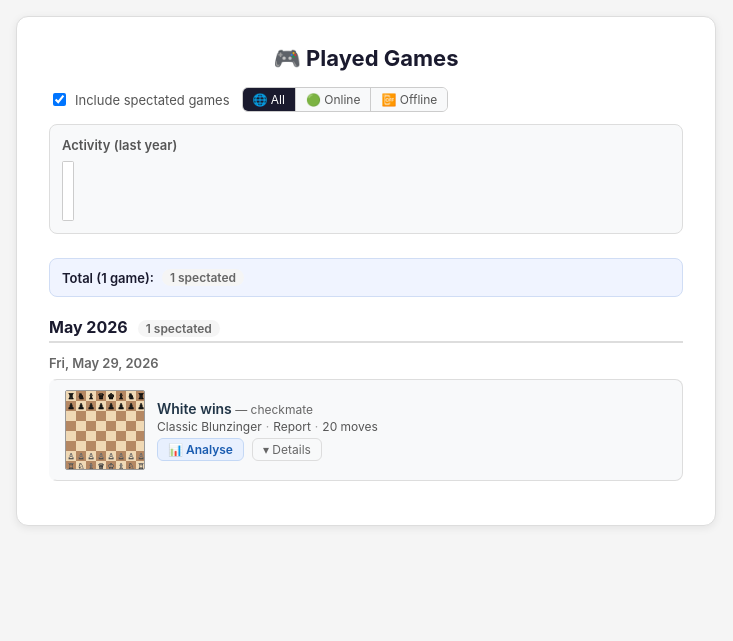
PlayedGamesSection › expandable details › collapses when Less is clicked
This screenshot has width=733, height=641.
Click the button "▾ Details": (287,449) [252,438,322,460]
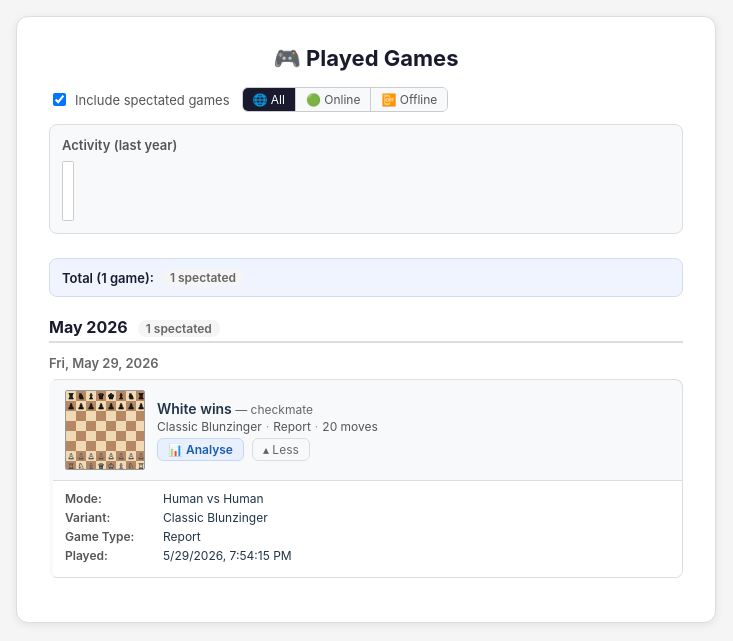
Now the button "▴ Less" is shown
Click the button "▴ Less": (281,449) [252,438,310,460]
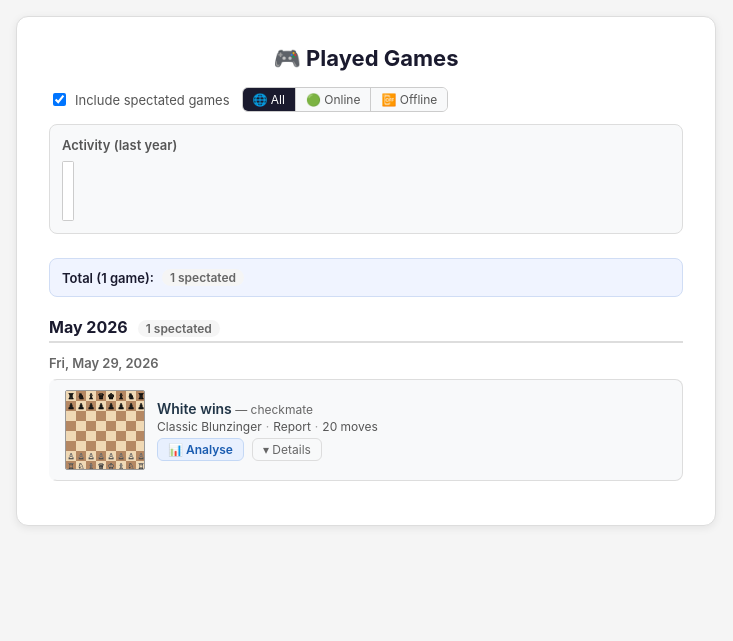
Now the text "Mode:" is gone
